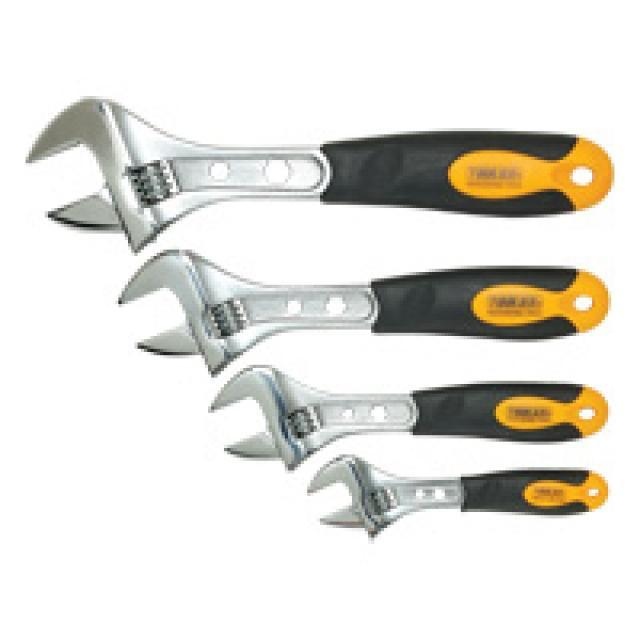wrench: (18, 89, 620, 256), (113, 245, 615, 378), (202, 362, 614, 474), (305, 449, 612, 542)
